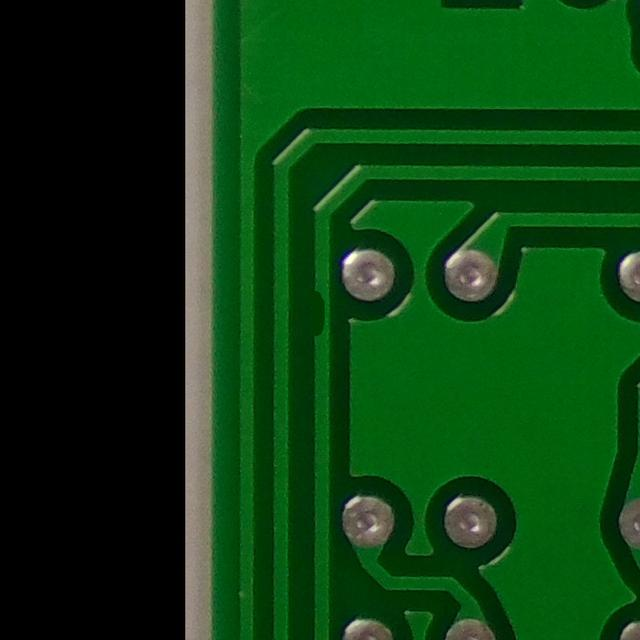mouse_bite: (292, 279, 347, 361)
